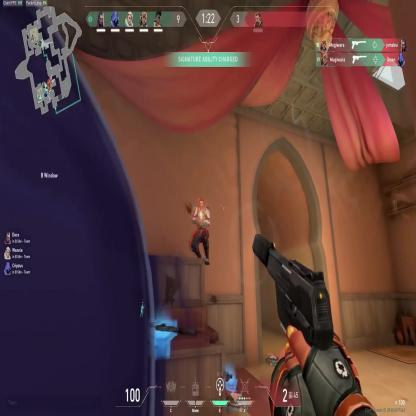enemy: (190, 197, 212, 268)
enemy_head: (199, 198, 205, 213)
